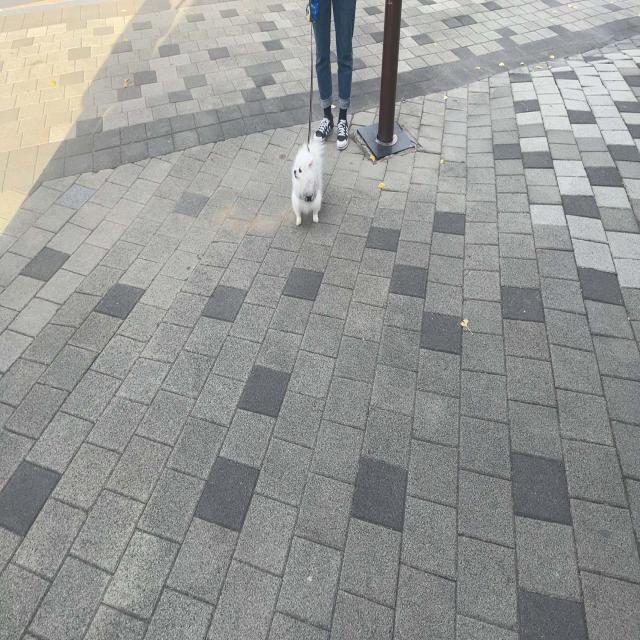Leashed_Dog: (291, 0, 331, 226)
